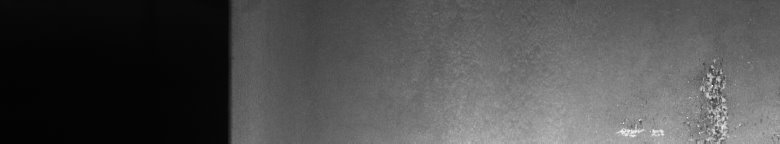hc: (617, 56, 762, 136)
